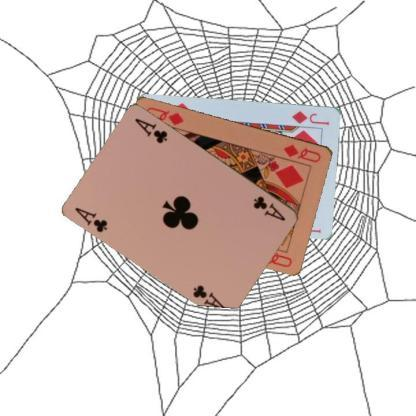Ac: (72, 204, 109, 234), (251, 194, 287, 223)
Jd: (289, 108, 332, 126)
Qd: (280, 140, 323, 164)
